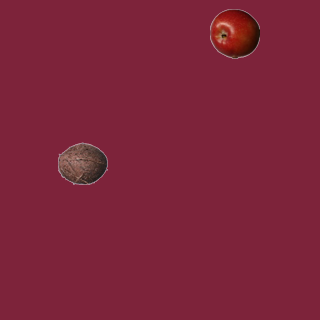Apple Braeburn: (209, 8, 259, 58)
Cocos: (57, 138, 107, 188)
